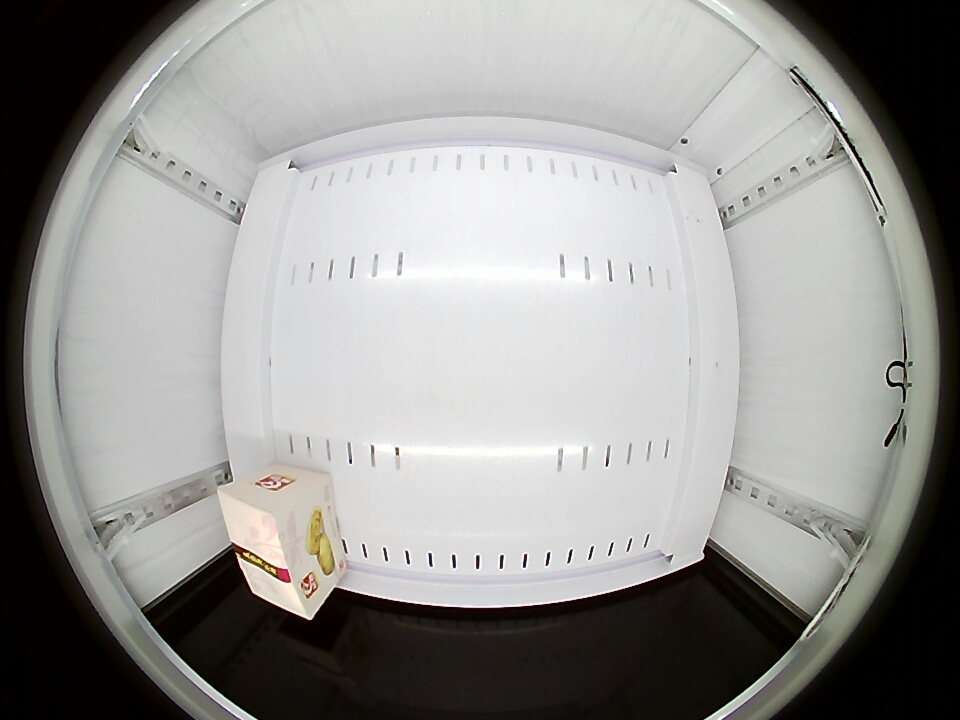rousongbing: (218, 478, 327, 621)
